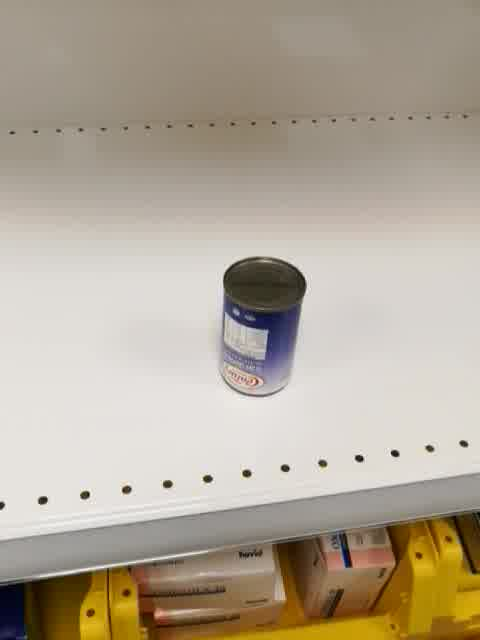sardine: (217, 254, 308, 399)
